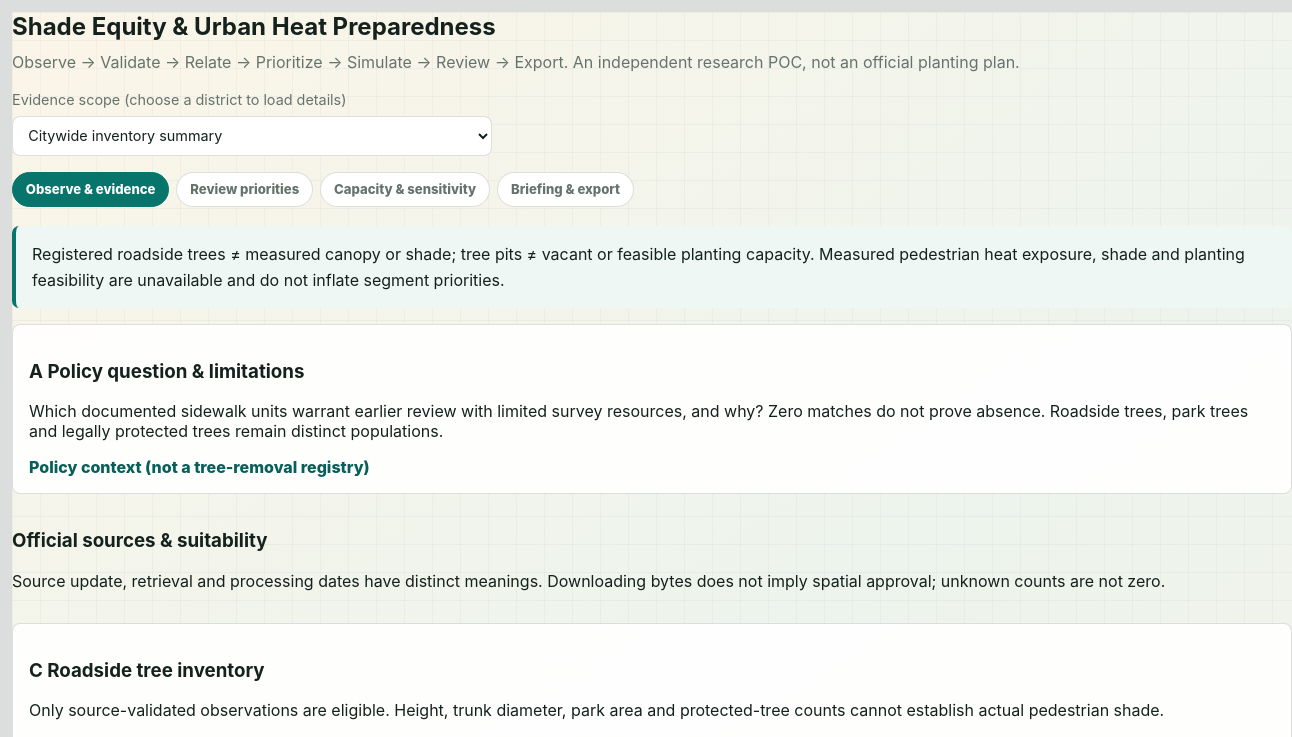
shade equity dashboard › keeps capacity edits pending until the user generates a shortlist
Click the button "Review priorities".
click(245, 189)  # box [176,172,313,207]
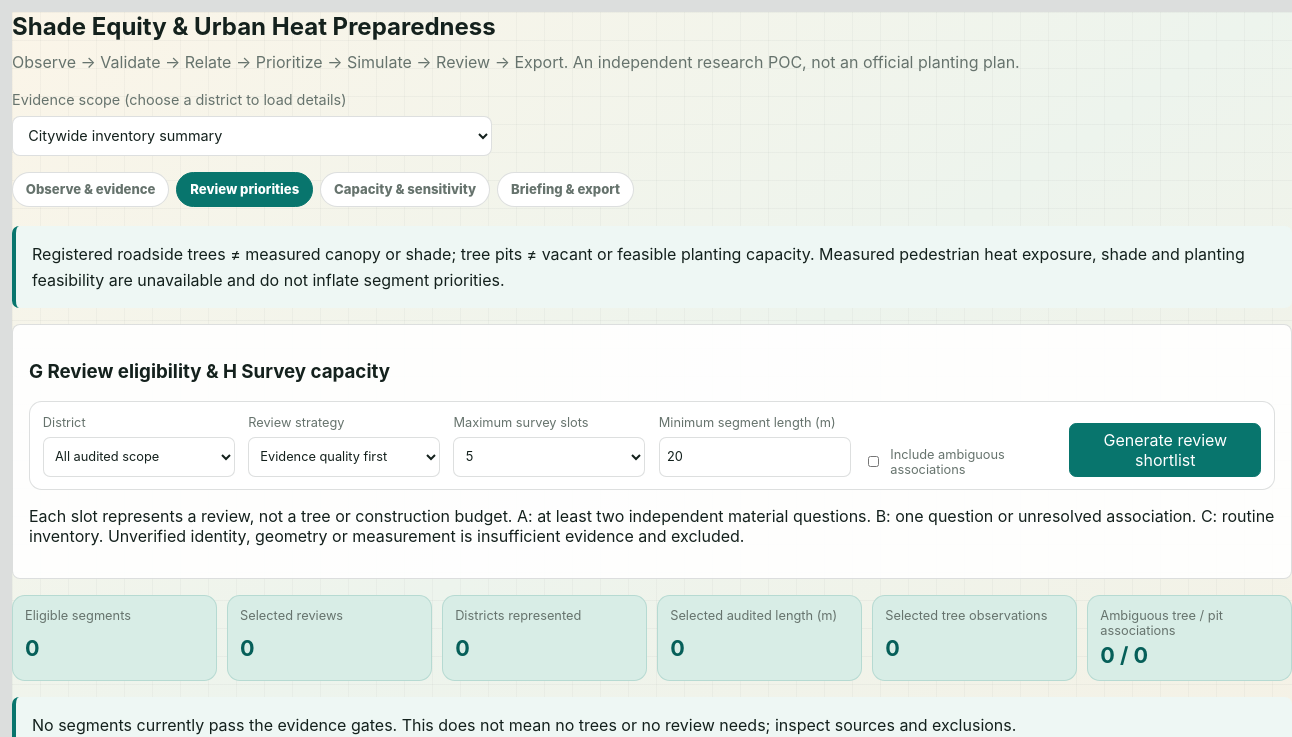
Select "10" in the dropdown labelled "Maximum survey slots" at (549, 456), box [454,436,645,476]
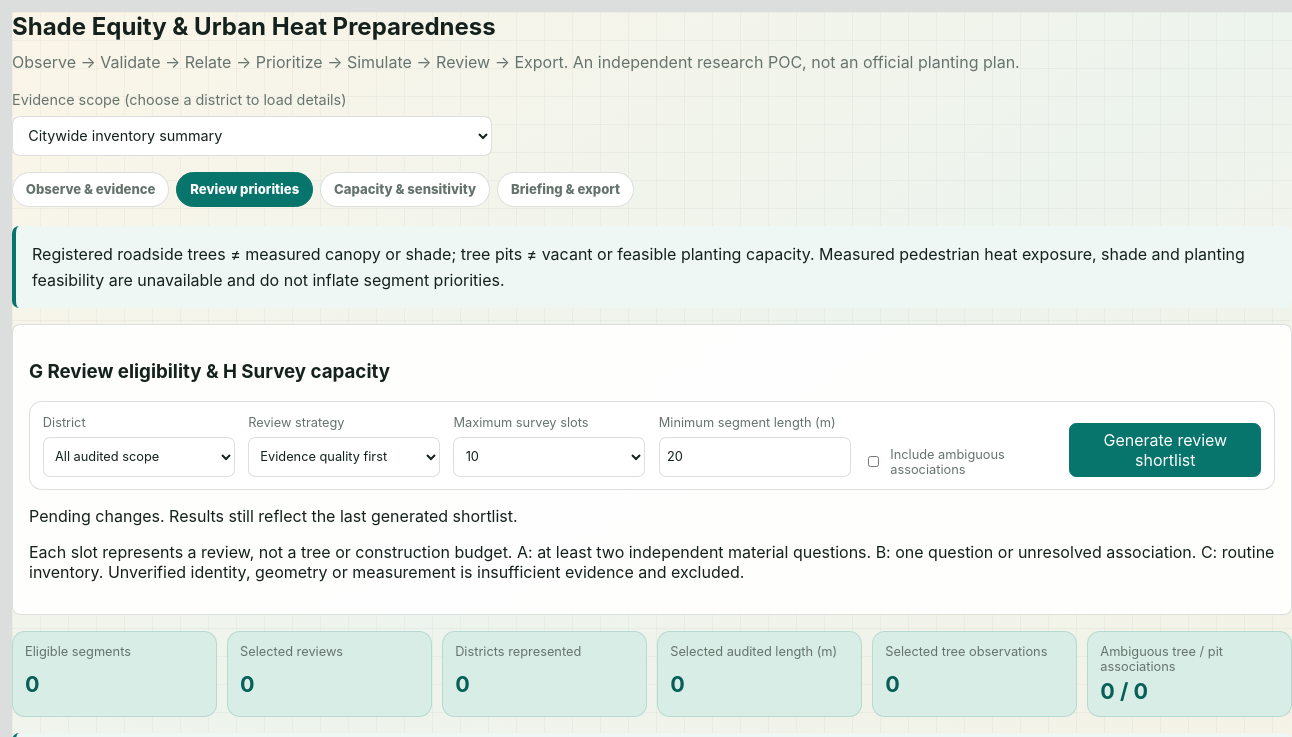
Check: the text "Pending changes. Results still reflect the last generated shortlist." is shown, box [29,506,518,526]
